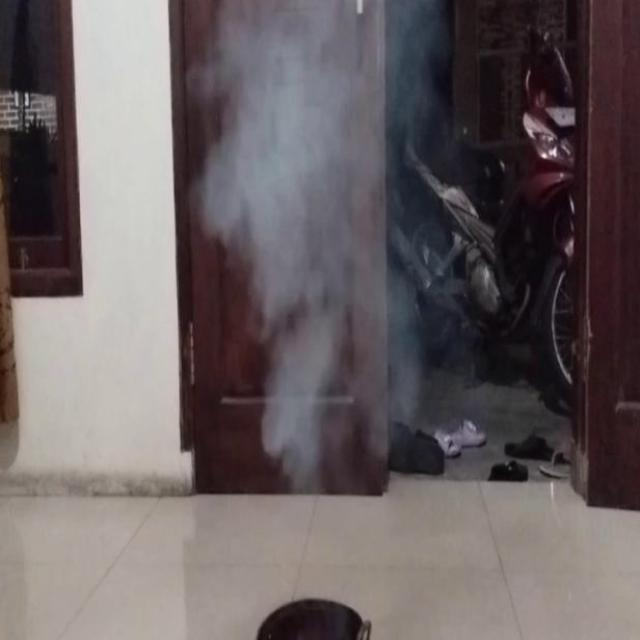fire: (199, 0, 428, 462)
